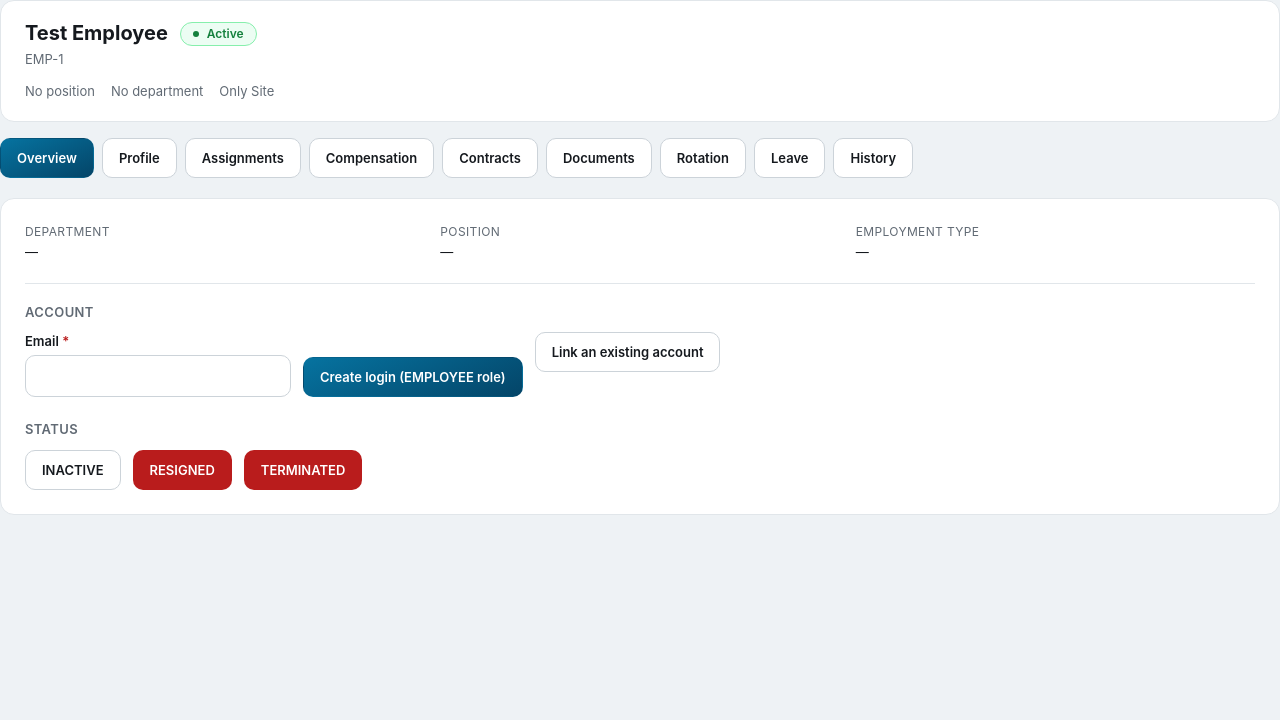
Test: EmployeeDetailPage status transitions (PASS1-R02) › a Governance-instruction backend error stays visible and the dialog stays open
Expected: the heading "Test Employee" is shown, [25,21,168,46]
Click the button "TERMINATED" at (303, 470), box [244,450,362,490]
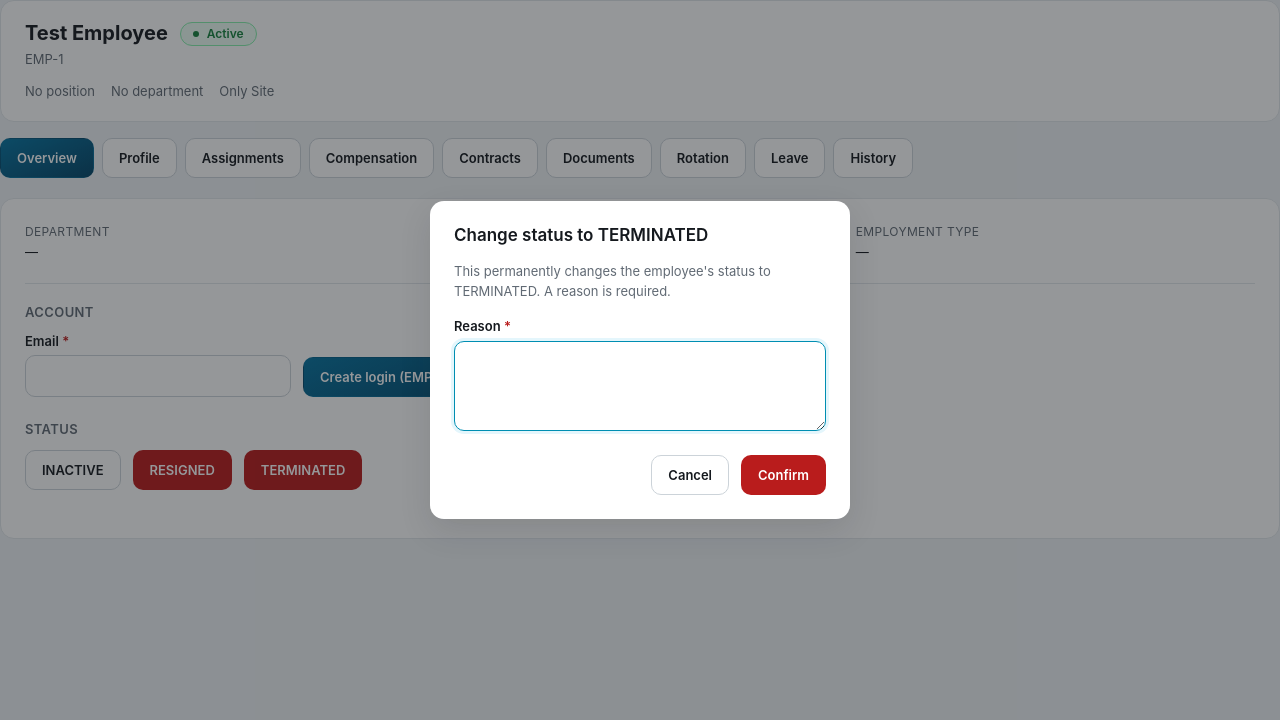
Type "Contract ended" into the text box labelled "Reason *" at (640, 386), box [454,341,826,431]
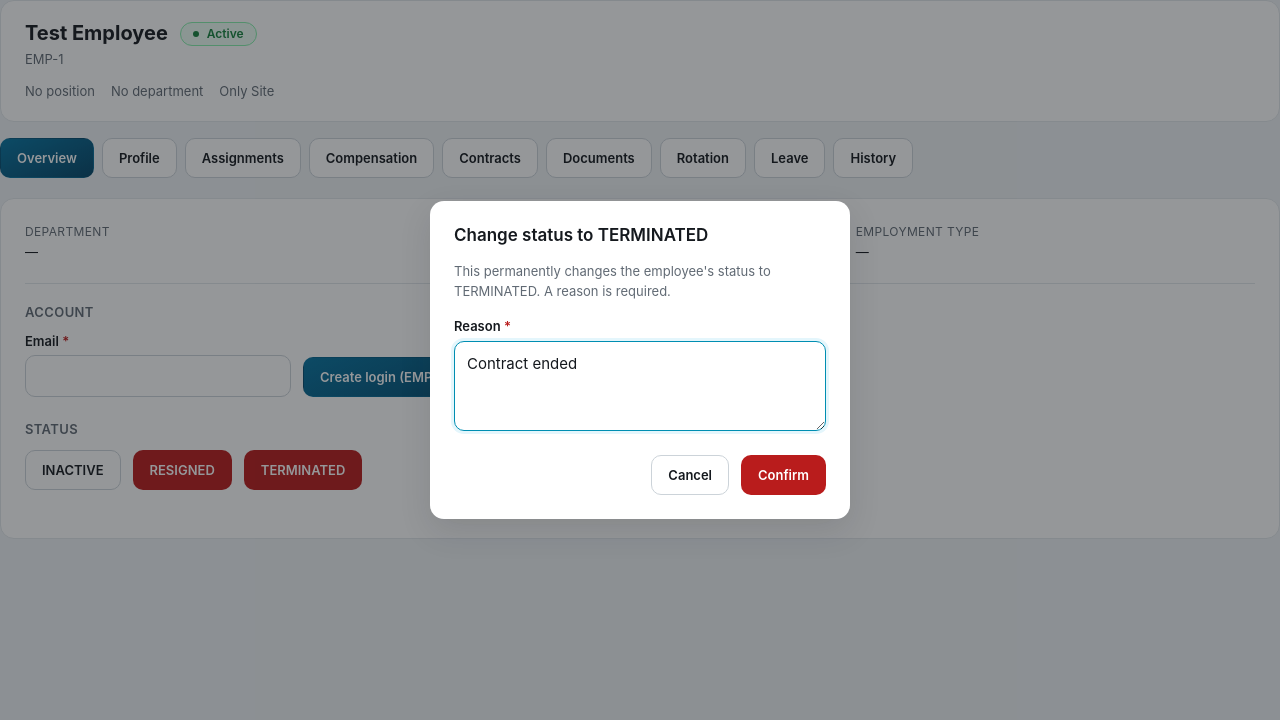
Click the button "Confirm" at (784, 475), box [741,455,826,495]
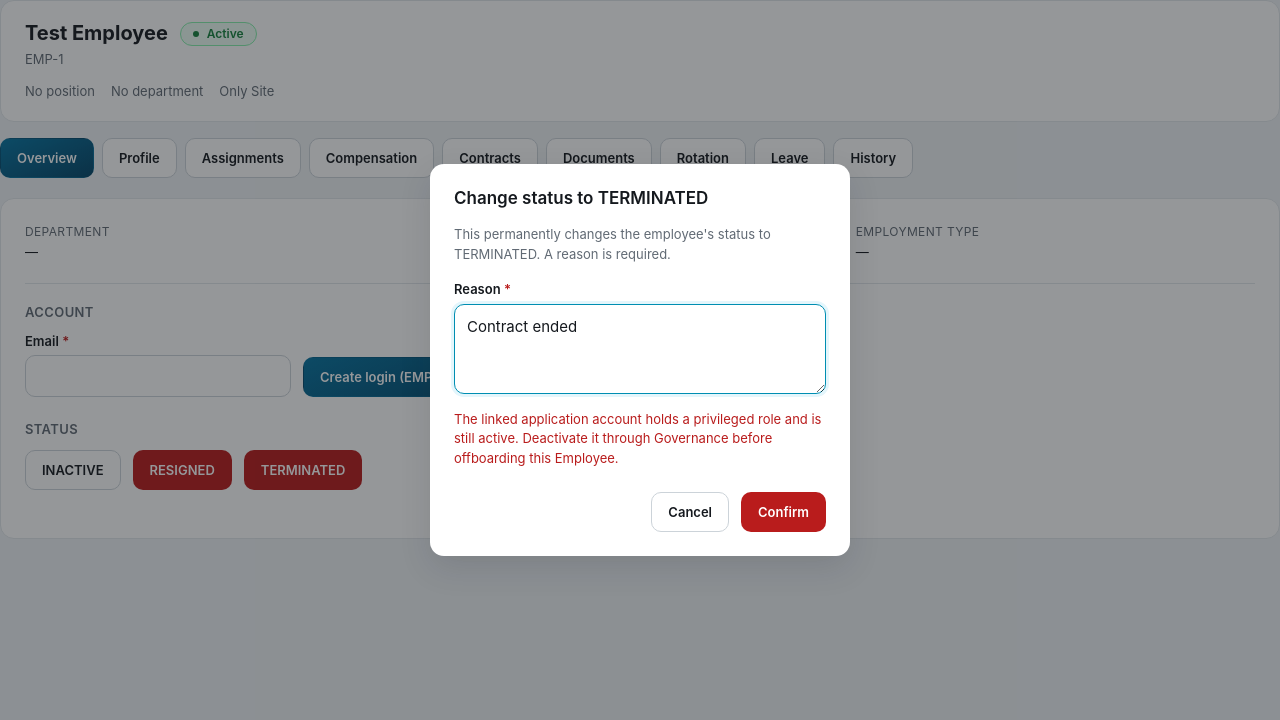
Result: the message shows "deactivate it through governance" at [454,411,822,466]
